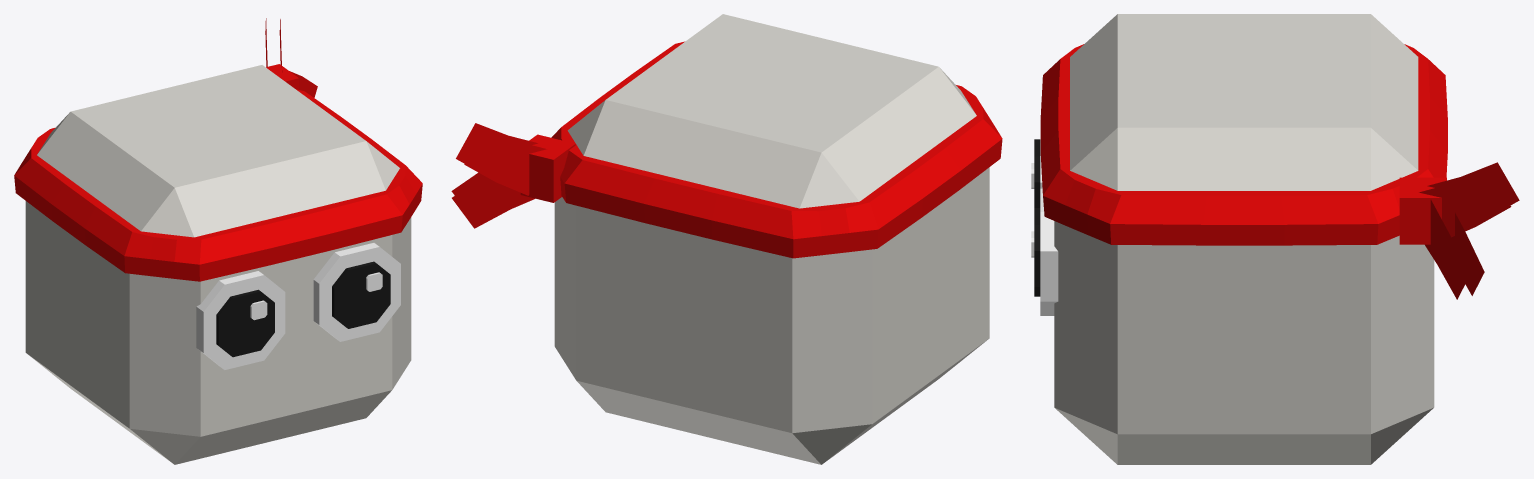
The model's file is Champ.fbx.
3 views of the same model, side by side, from view 1: azimuth 30°, elevation 25°; view 2: azimuth 150°, elevation 25°; view 3: azimuth 270°, elevation 25° (orthographic). The views are drawn at different scales.
Visible parts, largest first — view 1: Champ, Champ_Headband, Champ_Eyes, Champ_Pupils, Champ_Knot; view 2: Champ, Champ_Headband, Champ_Knot; view 3: Champ, Champ_Headband, Champ_Knot, Champ_Eyes, Champ_Pupils.
Boxes of the visible parts, left/top/right/bottom form: Champ: left=25, top=65, right=411, bottom=464; Champ_Headband: left=14, top=89, right=422, bottom=281; Champ_Eyes: left=196, top=243, right=400, bottom=369; Champ_Pupils: left=216, top=261, right=390, bottom=357; Champ_Knot: left=265, top=18, right=317, bottom=97; Champ: left=554, top=14, right=989, bottom=464; Champ_Headband: left=551, top=41, right=1002, bottom=258; Champ_Knot: left=451, top=123, right=575, bottom=228; Champ: left=1054, top=14, right=1434, bottom=464; Champ_Headband: left=1040, top=44, right=1447, bottom=245; Champ_Knot: left=1399, top=162, right=1519, bottom=299; Champ_Eyes: left=1031, top=120, right=1058, bottom=315; Champ_Pupils: left=1034, top=139, right=1040, bottom=296.
Size of the model in its own units: 2.43 by 1.88 by 2.47.
